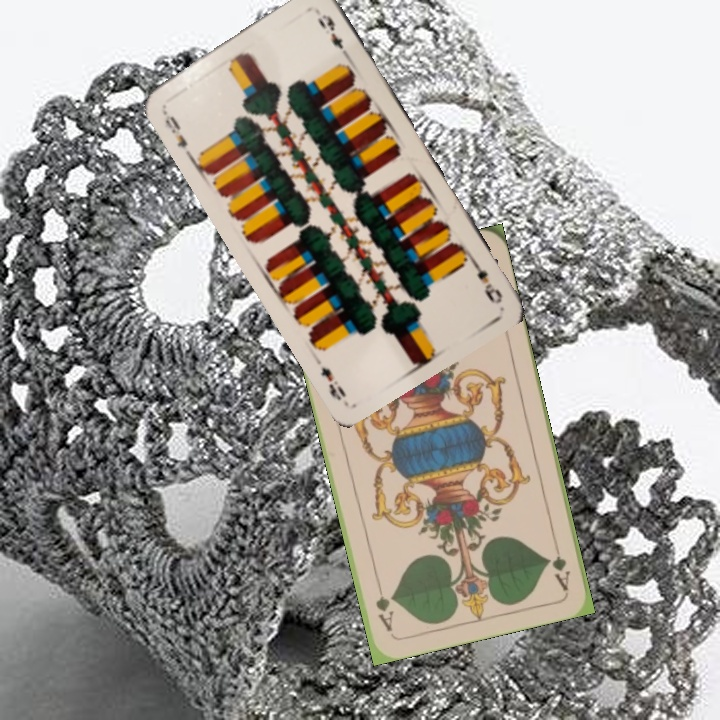E9: (467, 254, 506, 307), (158, 103, 191, 151)
GA: (546, 534, 573, 593)
